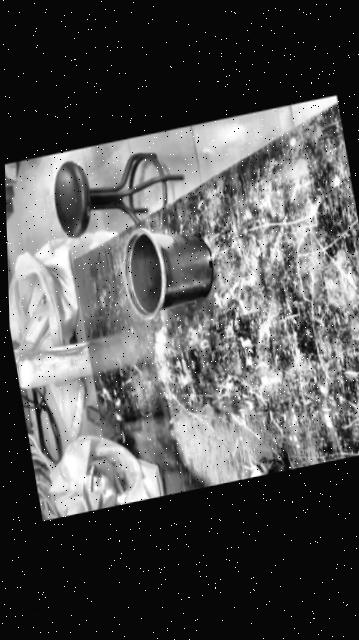pot: (116, 212, 219, 322)
